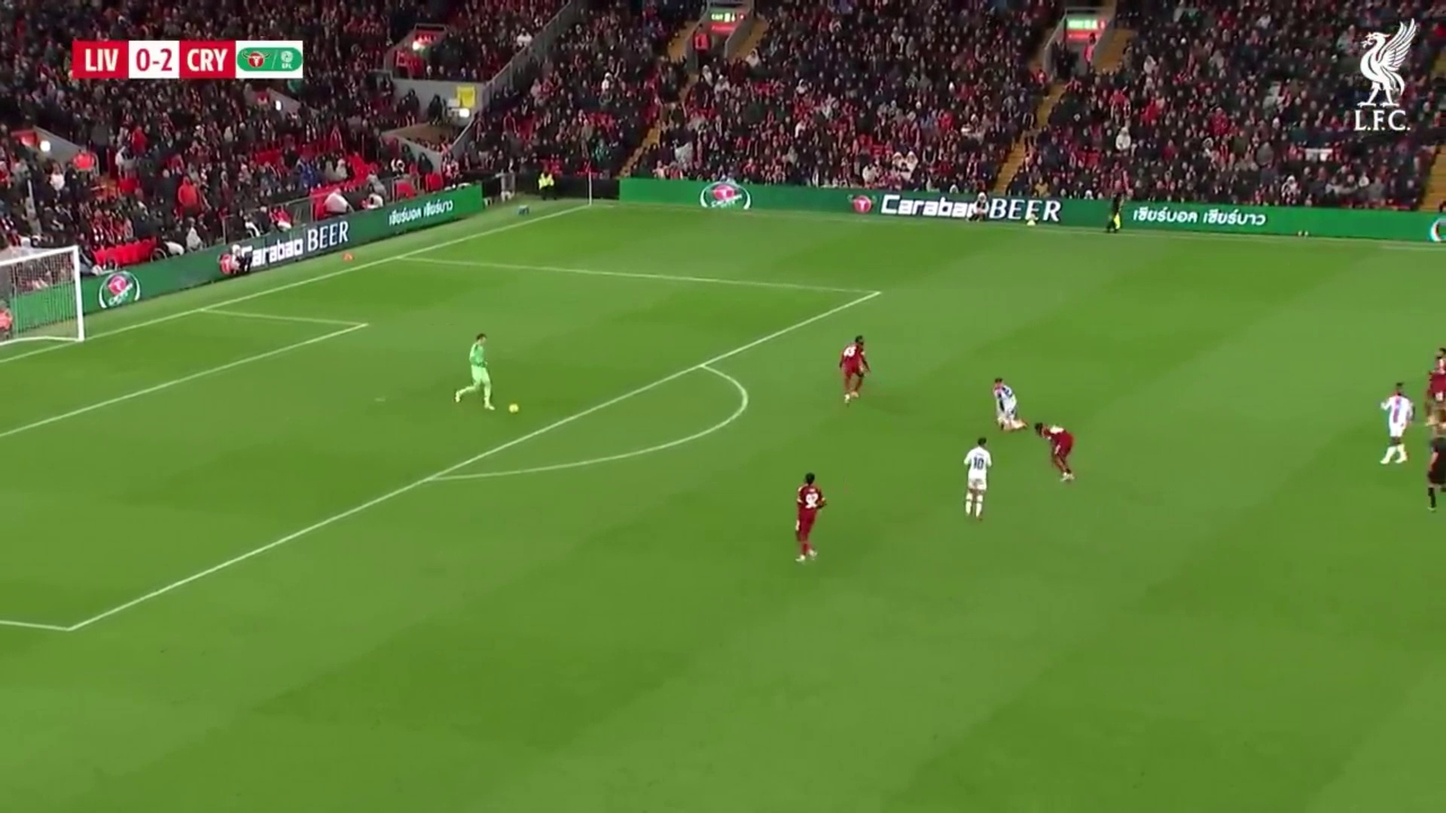player: (1422, 347, 1445, 517), (1379, 382, 1414, 469), (793, 473, 826, 564), (459, 332, 493, 411), (989, 375, 1030, 436), (964, 438, 993, 522), (838, 334, 870, 408), (1043, 423, 1076, 483), (992, 378, 1019, 432)
